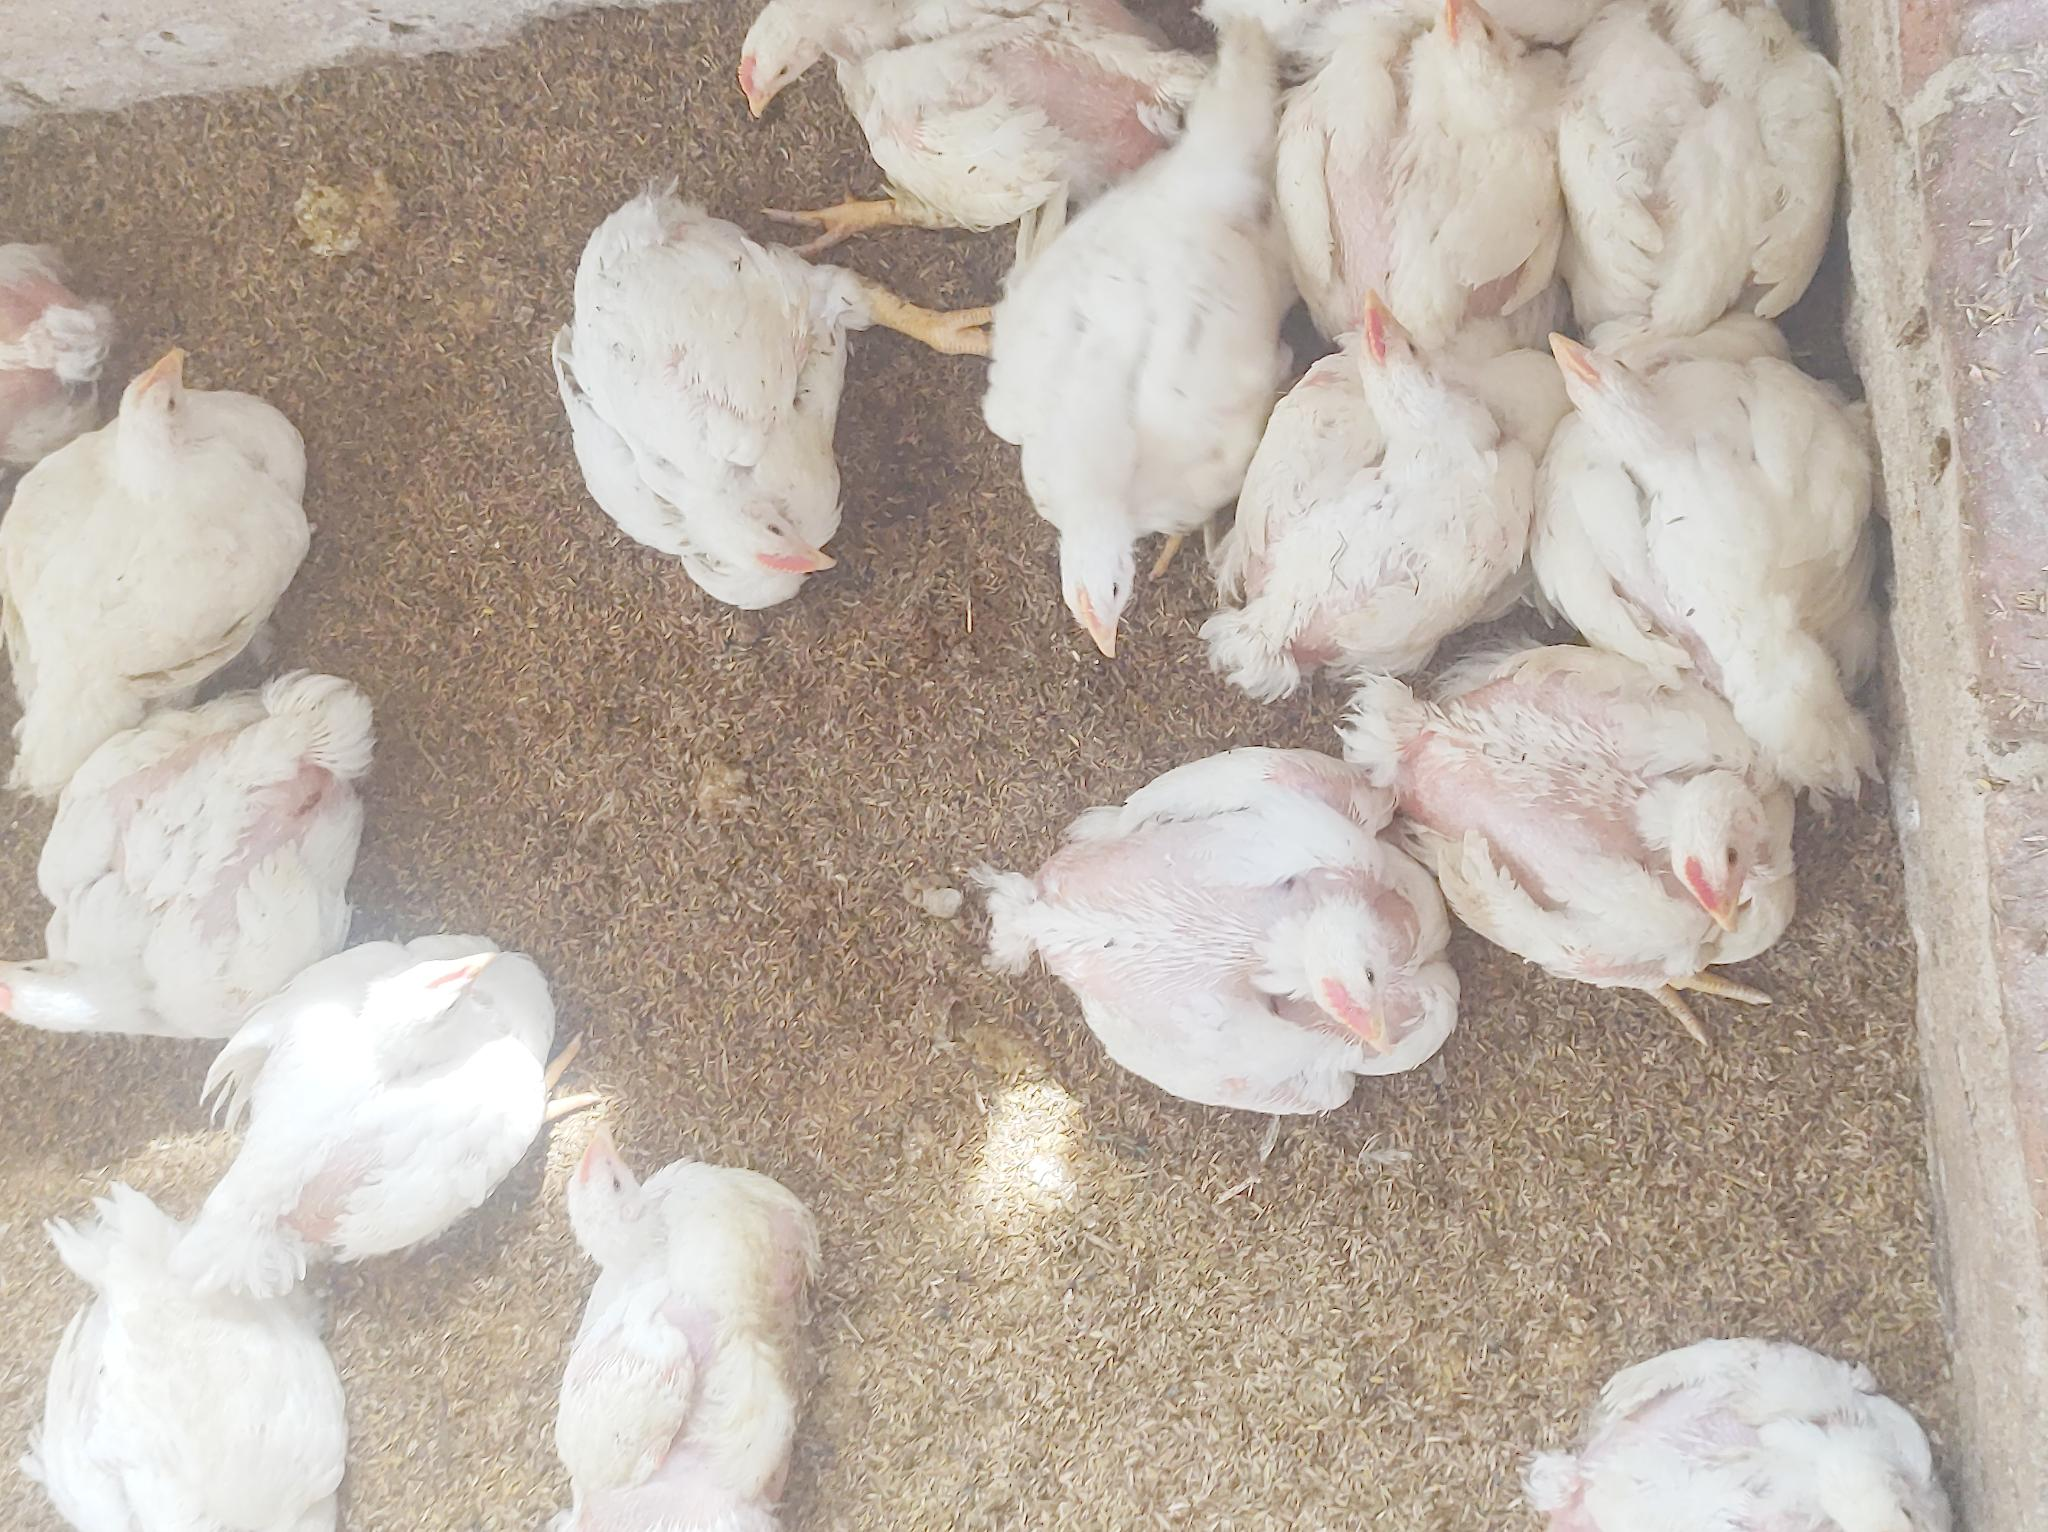Pollos: (1396, 605, 1865, 1112), (1535, 315, 1914, 776), (565, 188, 951, 623), (1014, 729, 1427, 1131), (0, 642, 368, 1069), (948, 130, 1256, 624), (127, 914, 578, 1246), (1557, 0, 1902, 401), (0, 1213, 409, 1532), (1226, 10, 1575, 370), (1532, 1246, 1951, 1532), (0, 323, 330, 679), (655, 0, 1182, 212), (528, 1130, 803, 1532), (1242, 303, 1528, 689)
